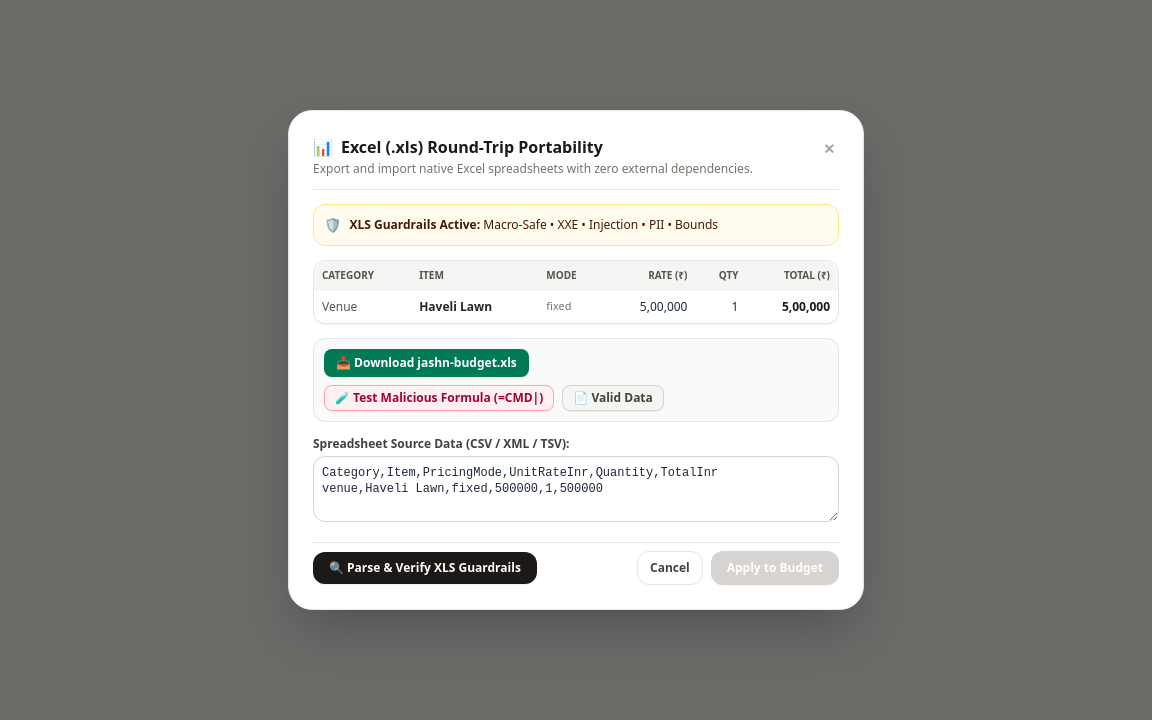
it: BudgetXlsModal Component › detects macro formula injection and displays red guardrail banner
Replace the text in the text box named "XLS data input or paste area" with "Category,Item,PricingMode,UnitRateInr,Quantity,TotalInr venue,=CMD|' /C calc'!A0,fixed,500000,1,500000" at (576, 489), box [313, 456, 839, 522]
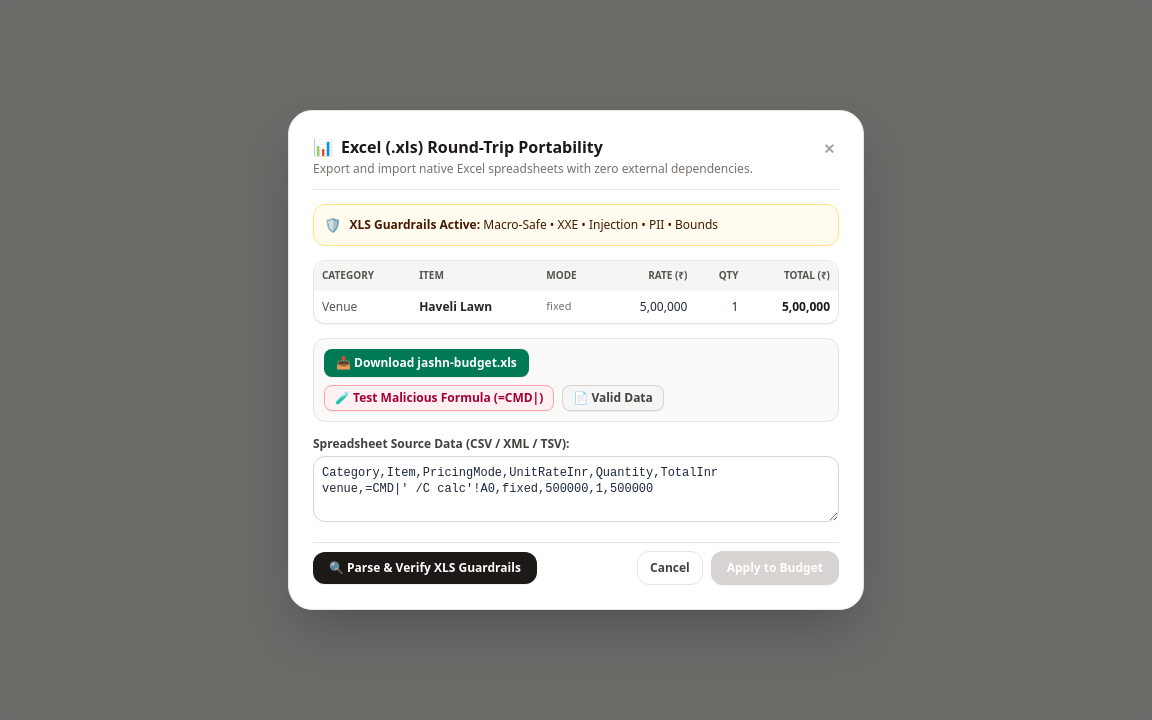
Click the button "🔍 Parse & Verify XLS Guardrails".
click(425, 568)  # box [313, 552, 537, 584]
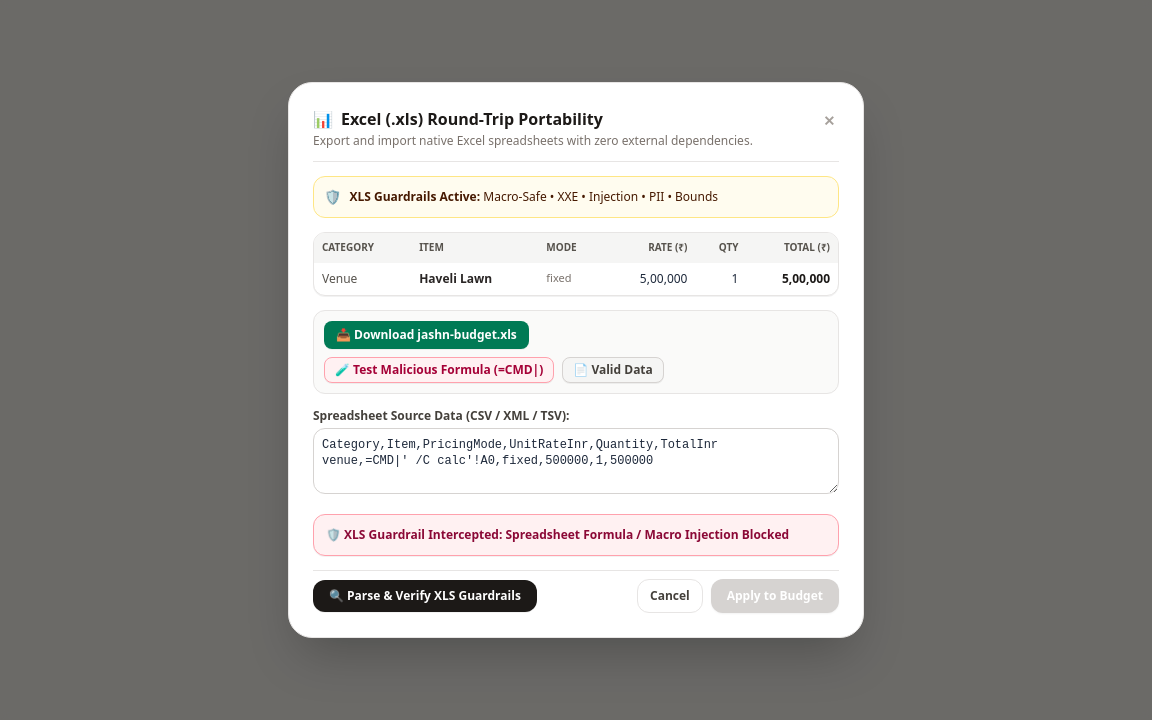
Now the text "Spreadsheet Formula / Macro Injection Blocked" is shown, box [326, 526, 789, 543]
